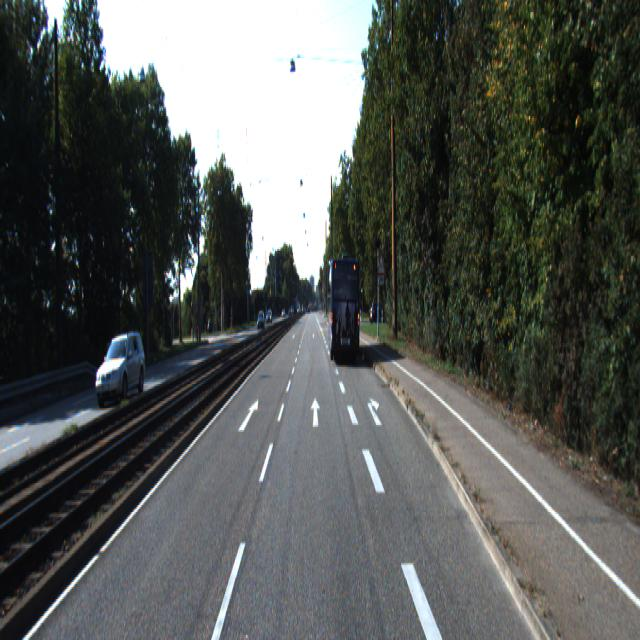Car: (93, 327, 148, 409), (329, 252, 360, 361)
